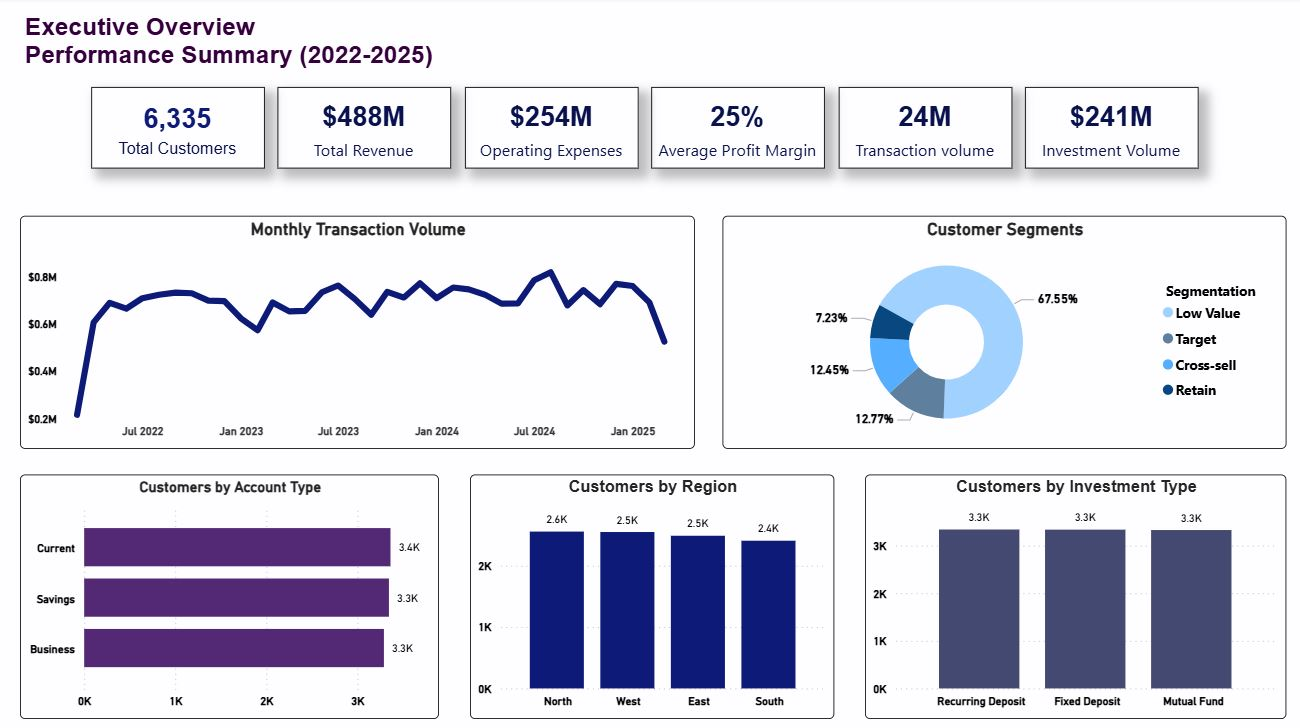

This screenshot's page, from the dashboard's own definition file:
{"tool":"powerbi","page":{"name":"KPI Cards","canvas":[1280,720],"ordinal":0},"visuals":[{"type":"card","fields":{"Values":["CountNonNull(bank_transaction customer_business_view.Customer_ID)"]},"box":[89,88,170,80],"z":0},{"type":"card","fields":{"Values":["Sum(bank_transaction branch_view.Firm_Revenue)"]},"box":[272.5,87.8,170,80],"z":1000},{"type":"card","fields":{"Values":["Sum(bank_transaction branch_view.Expenses)"]},"box":[456,88,170,80],"z":2000},{"type":"card","fields":{"Values":["Avg(bank_transaction branch_view.Profit_Margin)"]},"box":[639.5,88,170,80],"z":3000},{"type":"card","fields":{"Values":["Sum(bank_transaction branch_view.total_transaction_amount)"]},"box":[823,88,170,80],"z":4000},{"type":"card","fields":{"Values":["Sum(bank_transaction branch_view.total_investment_amount)"]},"box":[1006.5,87.8,170,80],"z":5000},{"type":"lineChart","title":"Monthly Transaction Volume","fields":{"Y":["Sum(bank_transaction monthly_transaction_view.total_transaction_amount)"],"Category":["bank_transaction monthly_transaction_view.Month"]},"box":[20,215,662.5,228.8],"z":6000},{"type":"donutChart","title":"Customer Segments","fields":{"Y":["CountNonNull(bank_transaction customer_business_view.Customer_ID)"],"Category":["bank_transaction customer_business_view.Segment Name"]},"box":[708.8,215,553.8,228.8],"z":7000},{"type":"clusteredBarChart","title":"Customers by Account Type","fields":{"Category":["bank_transaction vw_transaction_analysis.Account_Type"],"Y":["CountNonNull(bank_transaction vw_transaction_analysis.Customer_ID)"]},"box":[20,468.8,411.2,240],"z":8000},{"type":"clusteredColumnChart","title":"Customers by Investment Type","fields":{"Category":["bank_transaction vw_transaction_analysis.Investment_Type"],"Y":["CountNonNull(bank_transaction vw_transaction_analysis.Customer_ID)"]},"box":[848.8,468.8,413.8,240],"z":9000},{"type":"clusteredColumnChart","title":"Customers by Region","fields":{"Category":["bank_transaction vw_transaction_analysis.Region"],"Y":["CountNonNull(bank_transaction vw_transaction_analysis.Customer_ID)"]},"box":[461.2,468.8,357.5,240],"z":10000},{"type":"textbox","box":[20,11.2,637.5,65],"z":11000}]}

Visuals, with their boxes in screenshot pixels (x1, y1, x2, y2), scaled from the page's 1280x720 canvas onto the 1300x728 screenshot:
card - CountNonNull(bank_transaction customer_business_view.Customer_ID): bbox=(90, 89, 263, 170)
card - Sum(bank_transaction branch_view.Firm_Revenue): bbox=(277, 89, 449, 170)
card - Sum(bank_transaction branch_view.Expenses): bbox=(463, 89, 636, 170)
card - Avg(bank_transaction branch_view.Profit_Margin): bbox=(649, 89, 822, 170)
card - Sum(bank_transaction branch_view.total_transaction_amount): bbox=(836, 89, 1009, 170)
card - Sum(bank_transaction branch_view.total_investment_amount): bbox=(1022, 89, 1195, 170)
"Monthly Transaction Volume" lineChart: bbox=(20, 217, 693, 449)
"Customer Segments" donutChart: bbox=(720, 217, 1282, 449)
"Customers by Account Type" clusteredBarChart: bbox=(20, 474, 438, 717)
"Customers by Investment Type" clusteredColumnChart: bbox=(862, 474, 1282, 717)
"Customers by Region" clusteredColumnChart: bbox=(468, 474, 831, 717)
textbox: bbox=(20, 11, 668, 77)
